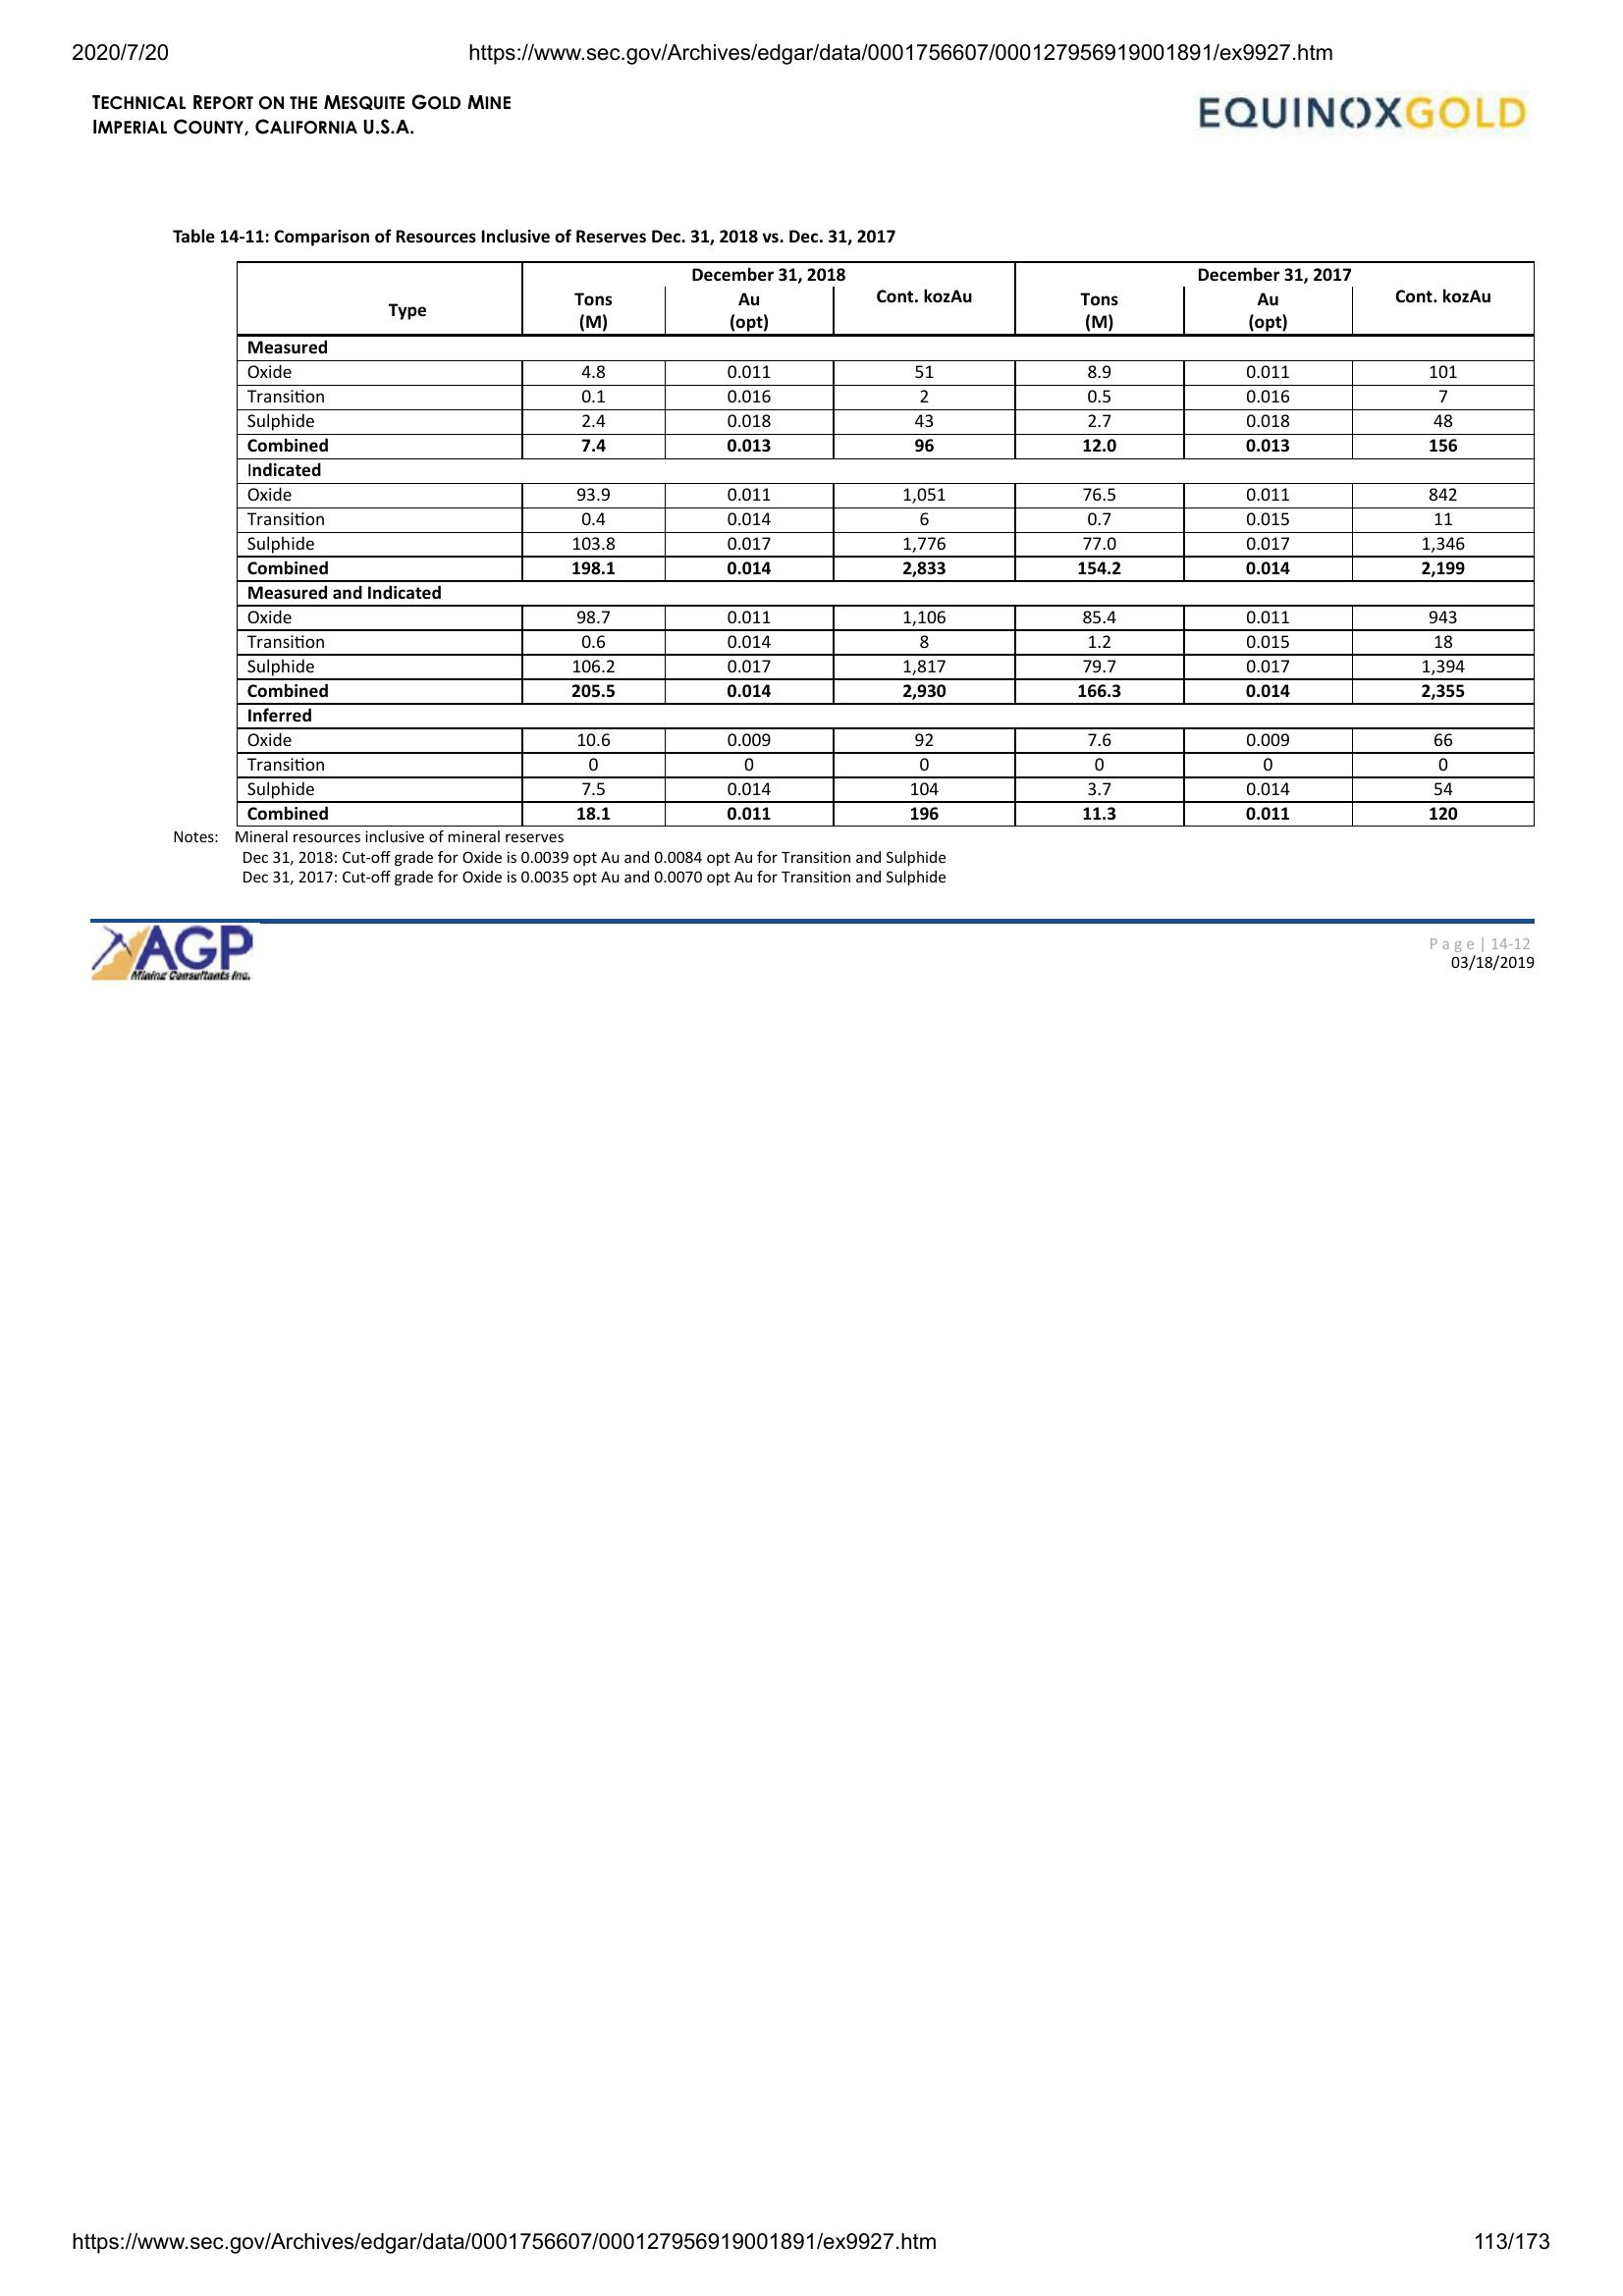table: (228, 255, 1546, 834)
